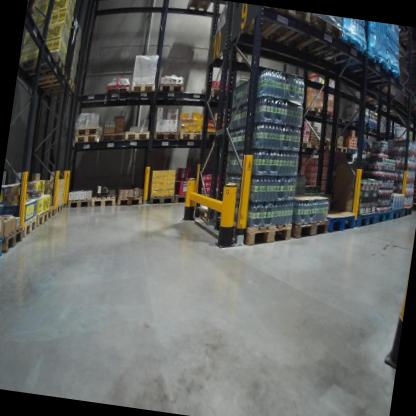pallet: (213, 209, 296, 255), (279, 11, 345, 68), (237, 4, 310, 52), (314, 27, 370, 74), (344, 50, 389, 88), (20, 45, 67, 81), (357, 61, 404, 90), (195, 194, 226, 234), (288, 214, 330, 243), (32, 64, 72, 94), (35, 74, 79, 101), (323, 207, 356, 235), (0, 221, 25, 255), (89, 184, 119, 212), (155, 77, 184, 105), (103, 80, 132, 106), (129, 78, 157, 103), (114, 190, 145, 212), (67, 188, 94, 213), (182, 0, 214, 20), (369, 204, 394, 229), (201, 82, 232, 102), (147, 188, 175, 209), (176, 126, 204, 146), (99, 126, 126, 146), (355, 208, 378, 231), (123, 126, 152, 144), (19, 212, 37, 240), (71, 129, 100, 146), (74, 122, 101, 140), (152, 126, 179, 144), (172, 189, 194, 207), (386, 205, 404, 224), (203, 128, 224, 144), (34, 207, 49, 227), (301, 101, 324, 114), (46, 204, 64, 220), (25, 0, 37, 22), (401, 202, 415, 220), (307, 140, 326, 153), (350, 116, 370, 127), (333, 143, 348, 155), (405, 99, 416, 115), (297, 137, 309, 151), (0, 237, 5, 270), (346, 145, 357, 157), (367, 119, 379, 130), (324, 143, 335, 154), (356, 148, 365, 157)
